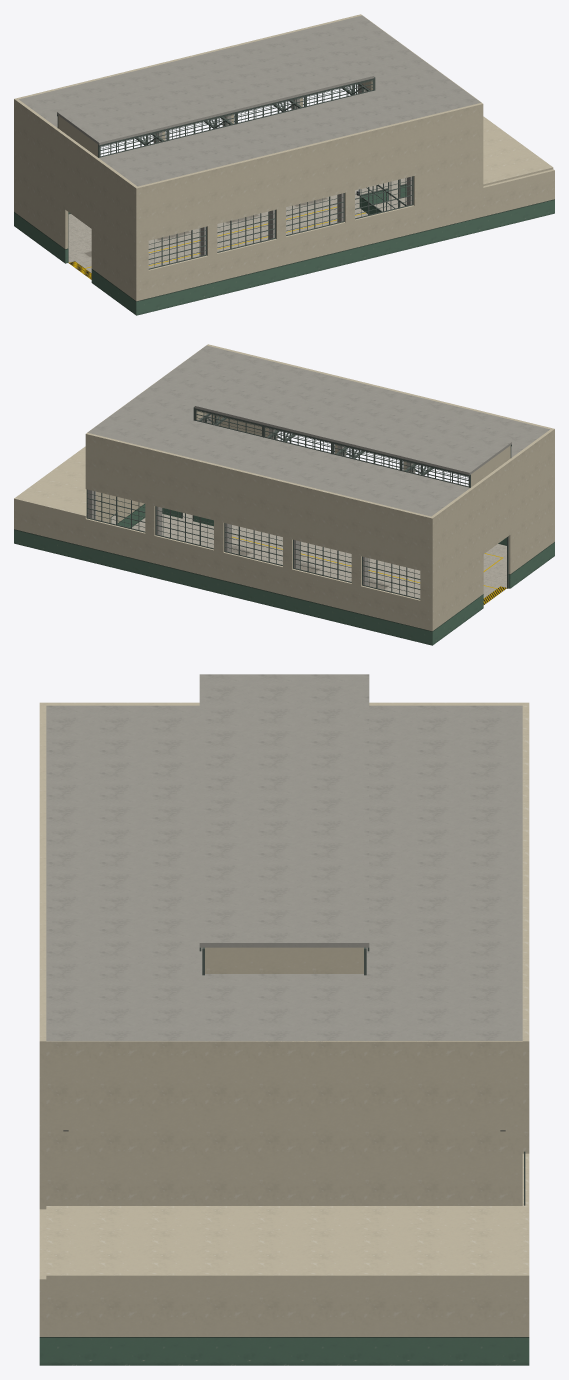
Rendered from LSB_ENV_BLD_Workshop_v01.fbx.
The picture shows the model from 3 angles, top to bottom: view 1: azimuth 30°, elevation 25°; view 2: azimuth 150°, elevation 25°; view 3: azimuth 270°, elevation 25°; orthographic projection. The views are drawn at different scales.
Visible parts, largest first — view 1: Walls, Roof, Floor, Windows, Columns, ControlRoomPartition, SafetyLines, RoofTruss; view 2: Walls, Roof, Floor, Windows, Columns, RoofTruss, SafetyLines; view 3: Walls, Roof.
Boxes of the visible parts, x1,y1,x2,y2 form: Walls: [14, 14, 554, 315]; Roof: [19, 15, 480, 186]; Floor: [68, 178, 406, 272]; Windows: [100, 80, 413, 269]; Columns: [153, 85, 412, 255]; ControlRoomPartition: [359, 179, 406, 214]; SafetyLines: [68, 206, 365, 279]; RoofTruss: [135, 83, 369, 145]; Walls: [14, 344, 554, 645]; Roof: [88, 345, 549, 516]; Floor: [111, 513, 506, 598]; Windows: [86, 410, 468, 599]; Columns: [87, 415, 415, 585]; RoofTruss: [199, 413, 433, 475]; SafetyLines: [232, 536, 506, 604]; Walls: [39, 702, 529, 1365]; Roof: [46, 674, 522, 1041].
Size of the model in its own units: 36.5 by 11.9 by 18.5.
